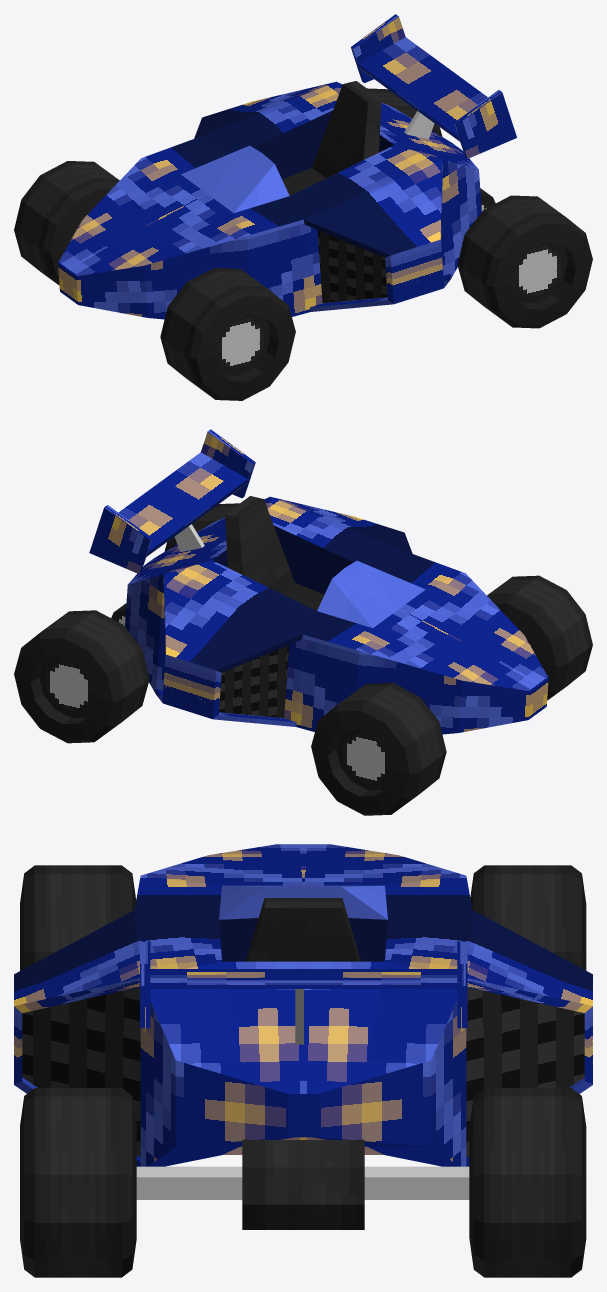
File: proto_kart2.gltf
The picture shows the model from 3 angles, top to bottom: view 1: azimuth 30°, elevation 25°; view 2: azimuth 150°, elevation 25°; view 3: azimuth 270°, elevation 25°; orthographic projection. The views are drawn at different scales.
Parts seen in each view (by area): view 1: Cube, Cylinder.001, Cylinder, Cube.005, Cylinder.002, Cube.003, Cylinder.003, Cube.004; view 2: Cube, Cylinder.003, Cylinder.002, Cube.005, Cylinder, Cube.003, Cylinder.001, Cube.004; view 3: Cube, Cylinder.003, Cylinder.001, Cylinder.004, Cylinder, Cylinder.002, Cube.005, Cube.001, Cube.003.
Part boxes in pixels (box(x1,y1,x2,y2)): Cube: box(58, 81, 481, 319); Cylinder.001: box(457, 195, 592, 328); Cylinder: box(160, 268, 295, 400); Cube.005: box(351, 14, 516, 158); Cylinder.002: box(14, 161, 119, 285); Cube.003: box(282, 81, 381, 195); Cylinder.003: box(367, 88, 442, 136); Cube.004: box(404, 111, 434, 138); Cube: box(125, 496, 548, 734); Cylinder.003: box(14, 610, 149, 743); Cylinder.002: box(311, 683, 446, 815); Cube.005: box(89, 429, 255, 573); Cylinder: box(487, 575, 592, 700); Cube.003: box(225, 496, 324, 610); Cylinder.001: box(164, 503, 239, 551); Cube.004: box(174, 524, 204, 551); Cube: box(14, 844, 592, 1166); Cylinder.003: box(469, 1088, 586, 1277); Cylinder.001: box(20, 1088, 136, 1277); Cylinder.004: box(242, 1139, 364, 1229); Cylinder: box(20, 865, 136, 970); Cylinder.002: box(470, 865, 586, 970); Cube.005: box(140, 940, 467, 1028); Cube.001: box(136, 1166, 469, 1199); Cube.003: box(246, 898, 360, 961).
Bounding box in the file's own units: 1.93 × 0.8901 × 1.43.
4 materials, 4 textured.
